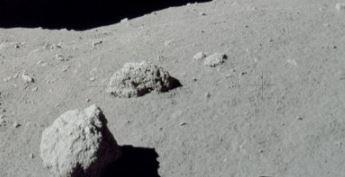rock: (40, 104, 119, 176), (106, 61, 181, 97)
